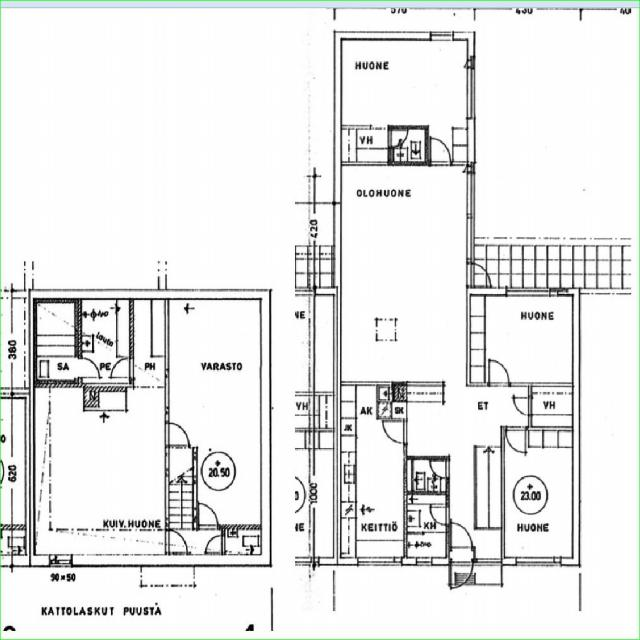door: (451, 558, 472, 590), (467, 263, 495, 286), (140, 383, 162, 412), (164, 530, 190, 553), (451, 524, 472, 550), (165, 423, 189, 445), (430, 139, 450, 165), (506, 426, 526, 452), (489, 361, 508, 386), (75, 359, 98, 377), (206, 536, 225, 554), (430, 507, 449, 524), (388, 130, 405, 146), (431, 461, 449, 476), (515, 398, 532, 413)
